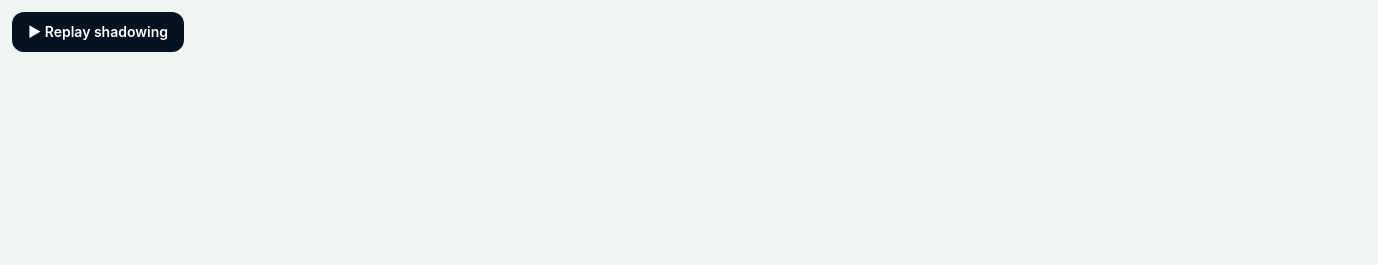
Scenario: ShadowingReplay › advances one line at a time and finishes
Click the button "▶ Replay shadowing" at (98, 32), box [12,12,184,52]
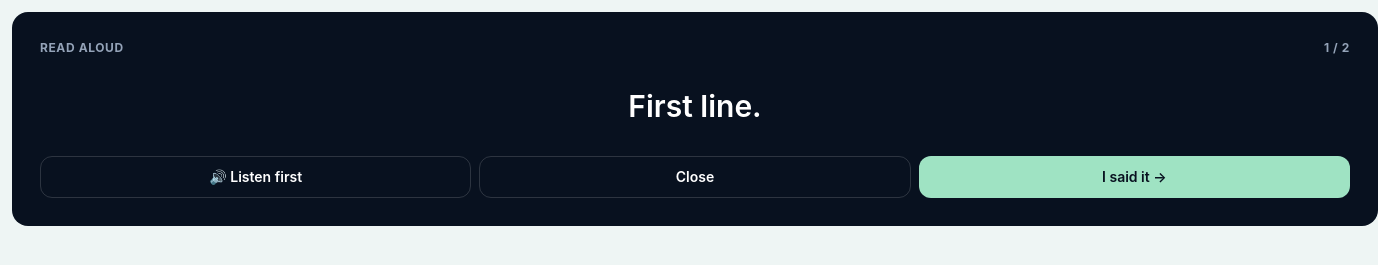
Expected: the text "First line." is shown, [628,88,762,124]
Click the button "I said it →" at (1134, 177), box [919,156,1350,198]
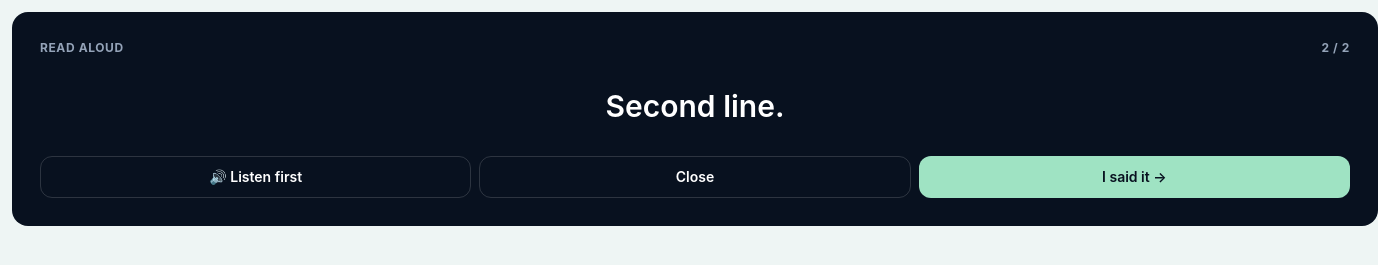
Expected: the text "Second line." is shown, [606,88,784,124]
Click the button "I said it →" at (1134, 177), box [919,156,1350,198]
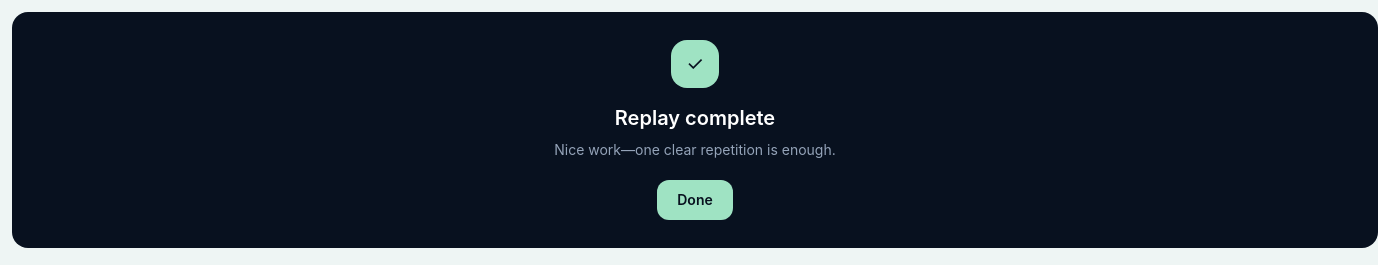
Expected: the heading "Replay complete" is shown, [615,106,775,130]
